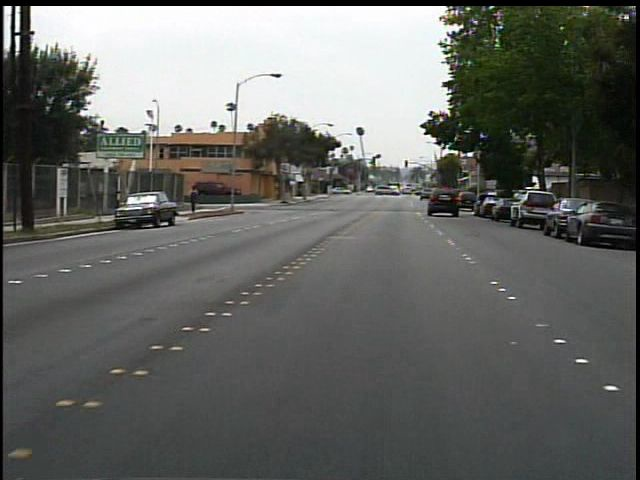person: (191, 182, 207, 216)
